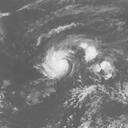cyclone: (43, 49, 75, 81)
